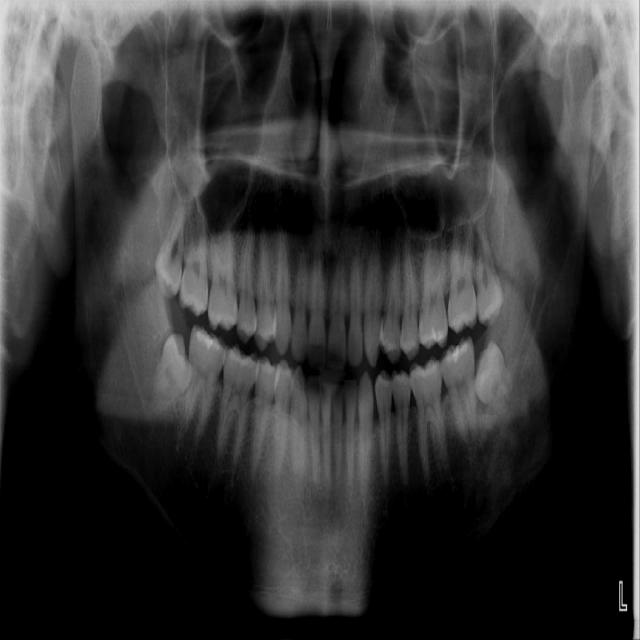Filling: (196, 330, 222, 353), (447, 341, 470, 366)
impacted tooth: (151, 334, 189, 414), (474, 217, 502, 325), (156, 204, 186, 300), (476, 342, 511, 411)
